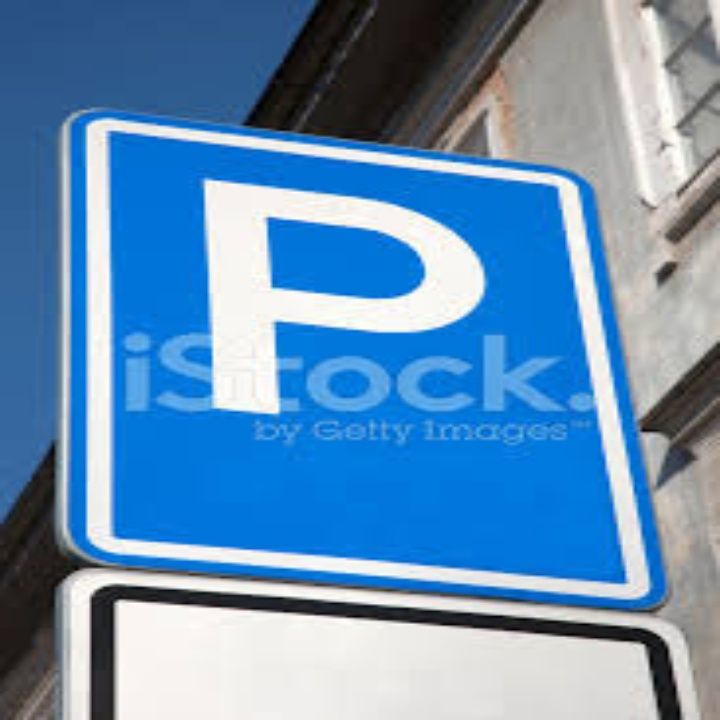parking: (191, 169, 491, 437)
